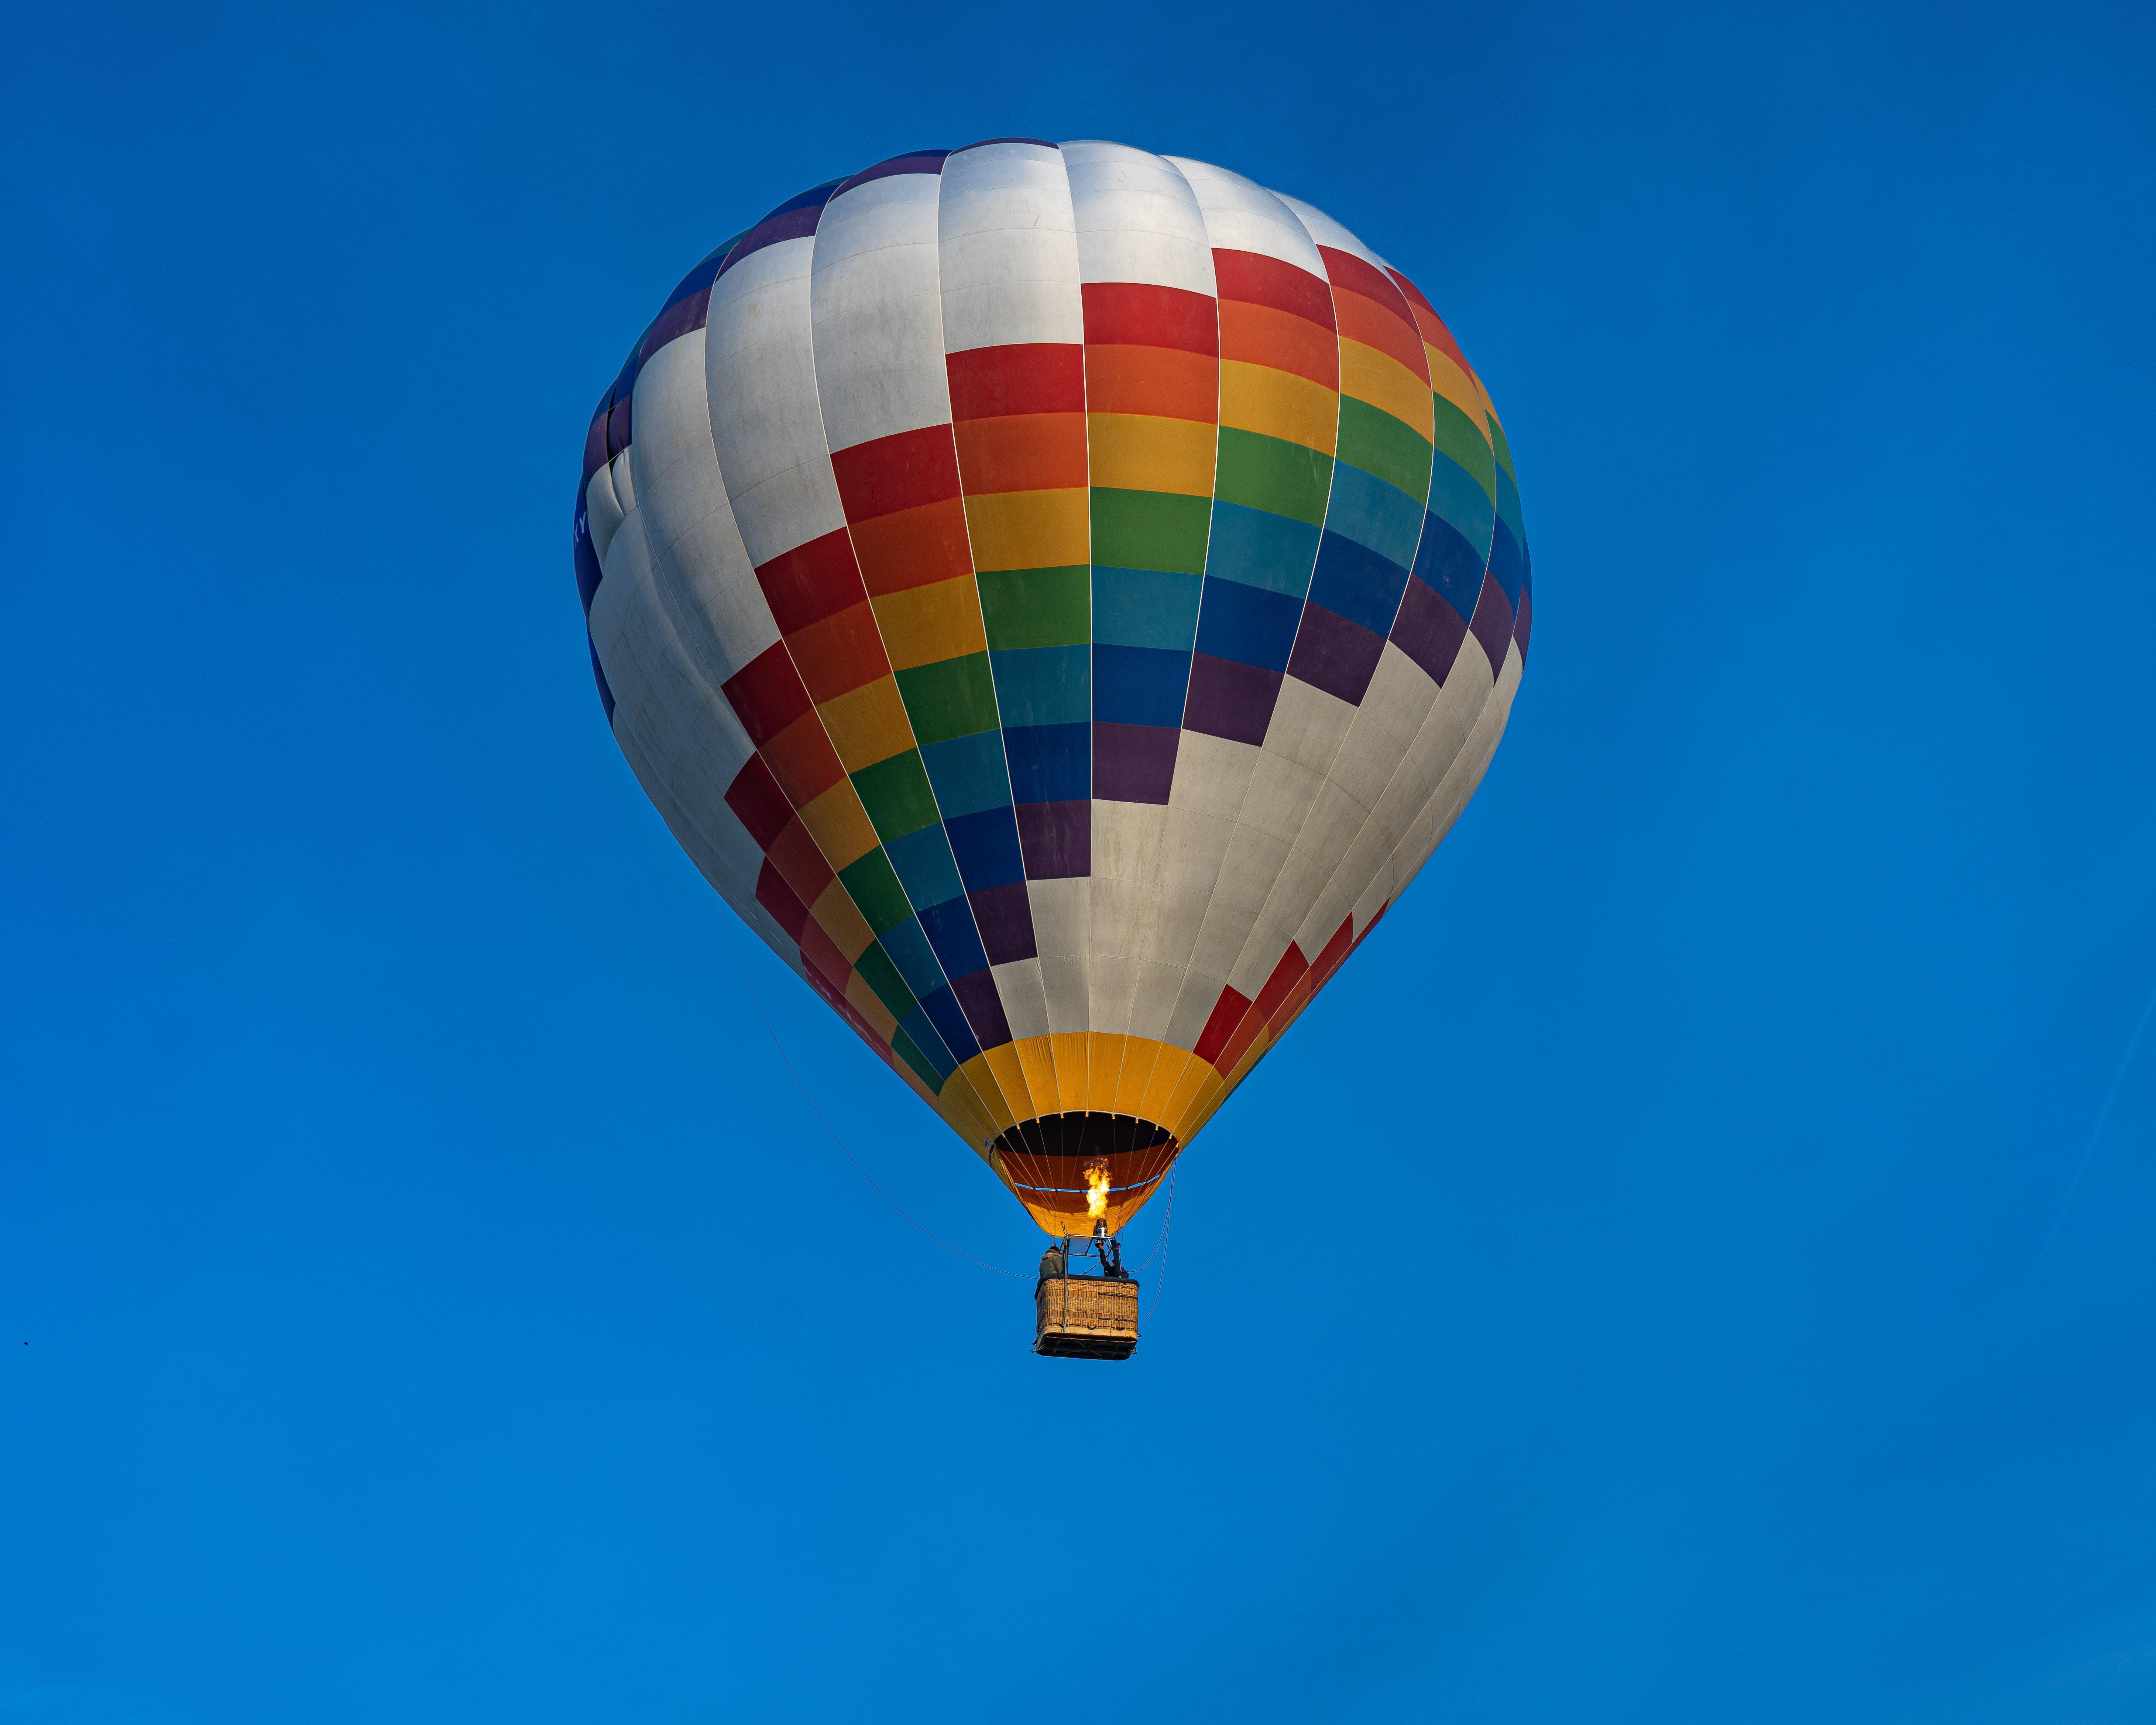hot air ballon: (579, 143, 1533, 1361)
